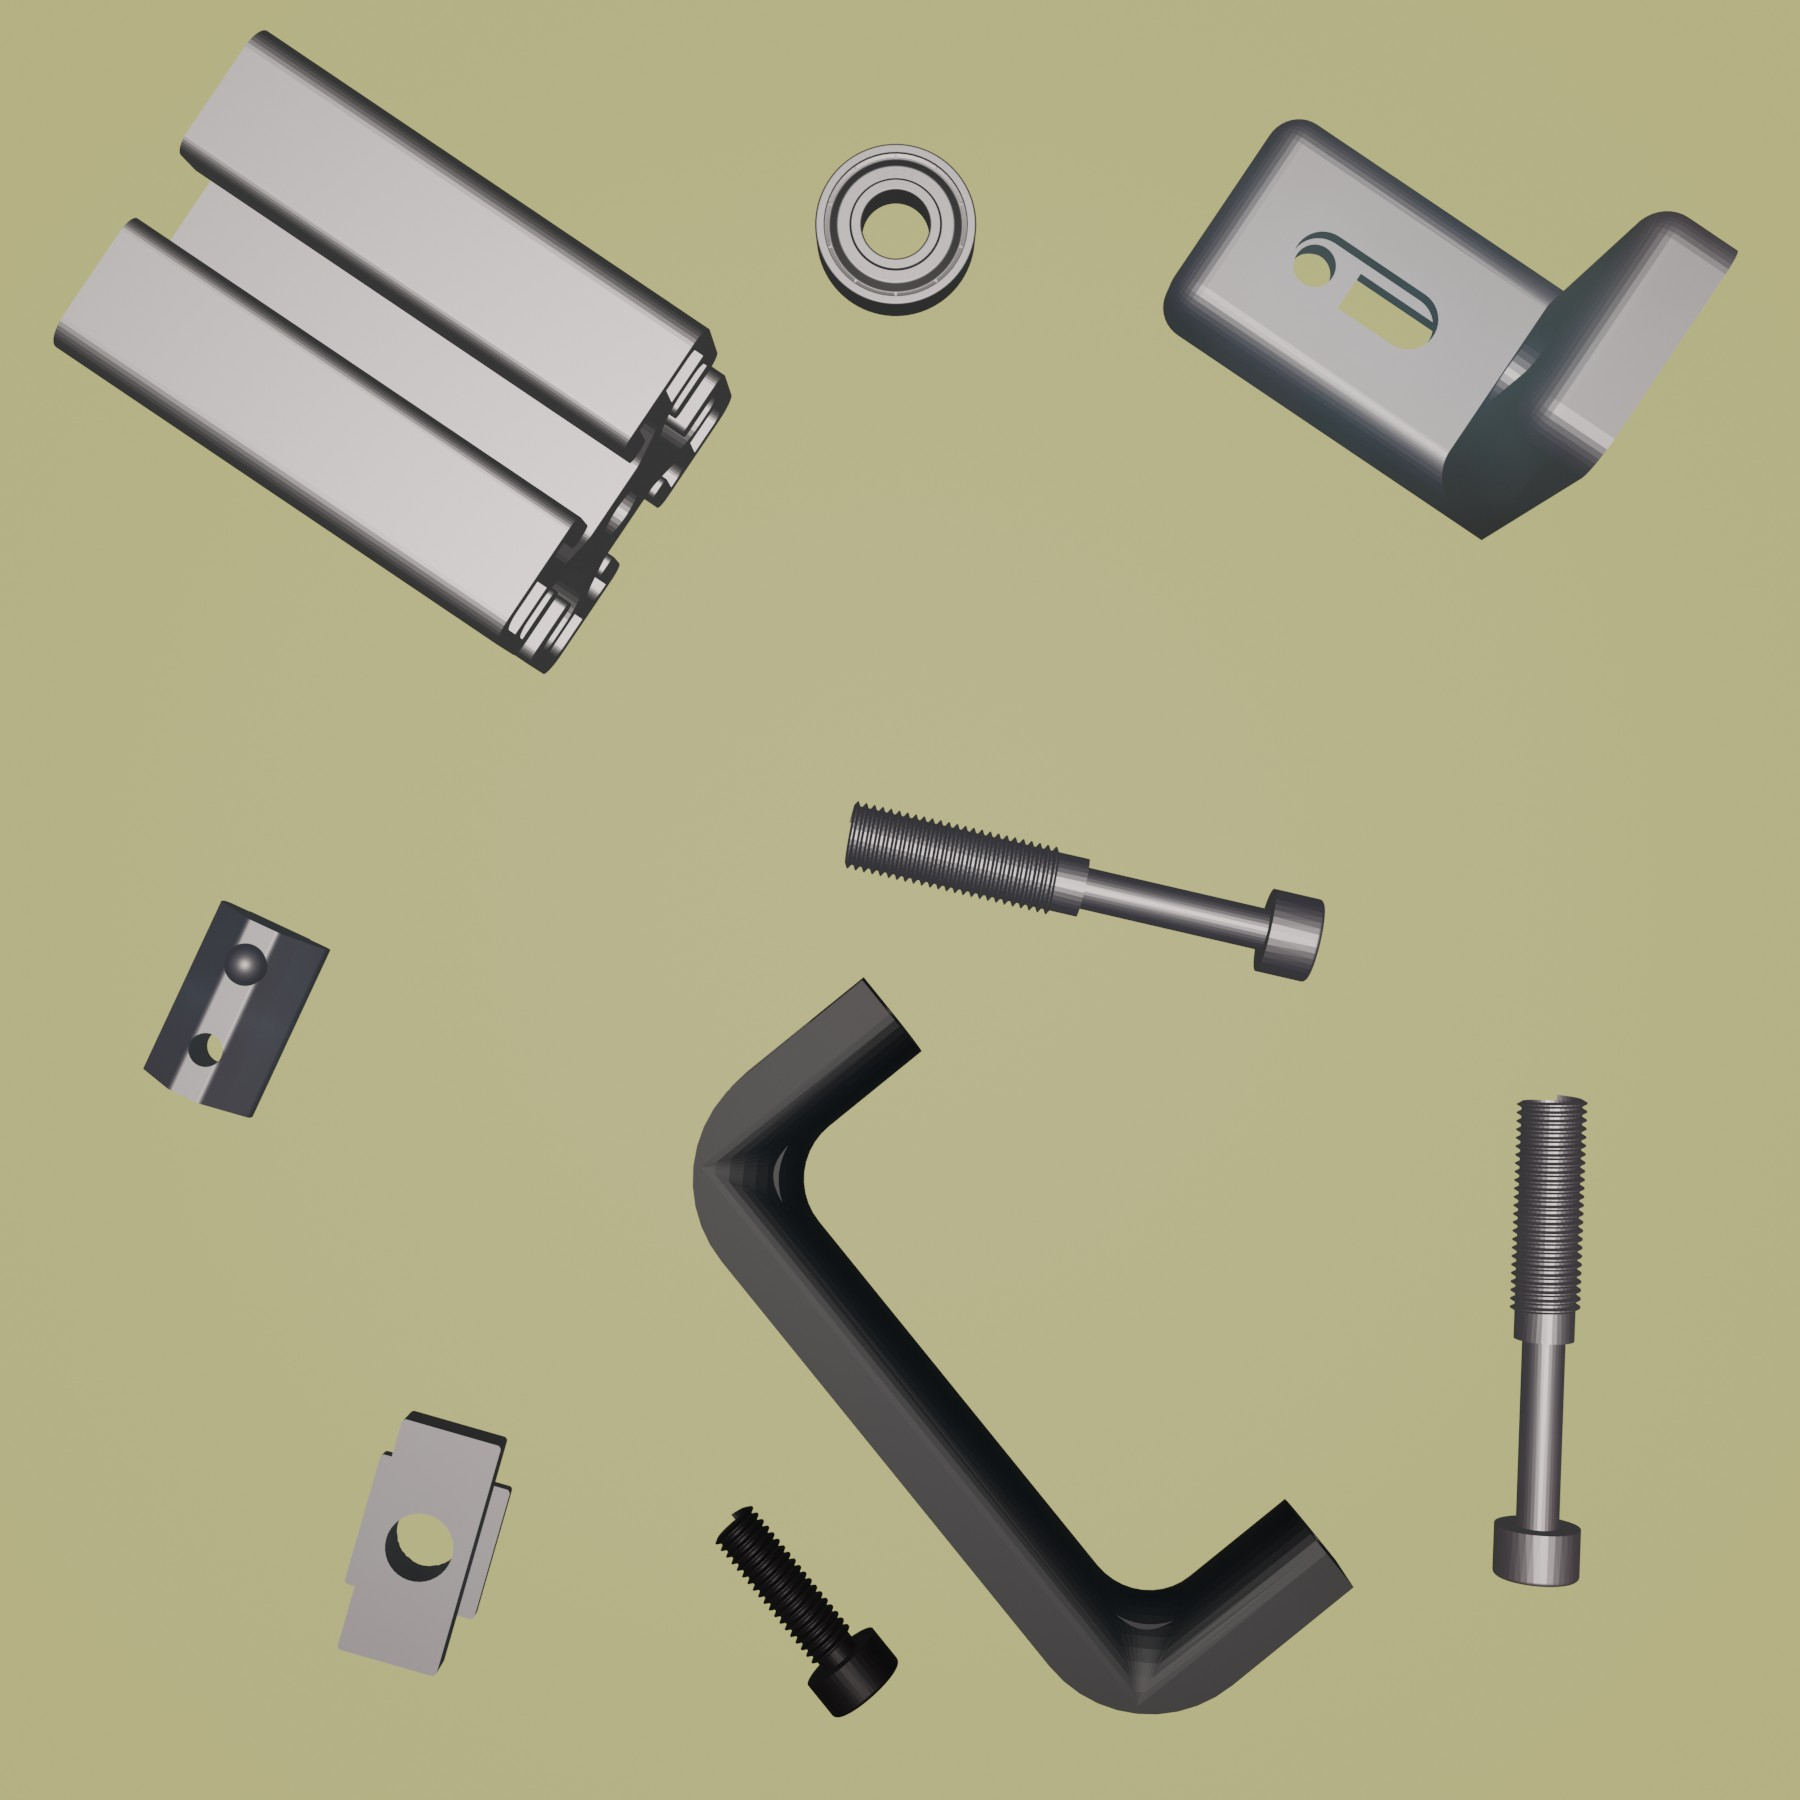Aluminium Extension: (49, 26, 734, 676)
Ball Bearing: (811, 138, 977, 320)
Multiwinkel: (1159, 115, 1742, 542)
Pull Handle: (689, 973, 1353, 1716)
Shoulder Socket Head Cap Screw: (842, 799, 1327, 984), (1488, 1091, 1592, 1589)
Socket Head Cap Screw: (712, 1503, 902, 1719)
T Nut Square: (331, 1404, 516, 1678)
T Spring Nut: (140, 897, 331, 1119)
